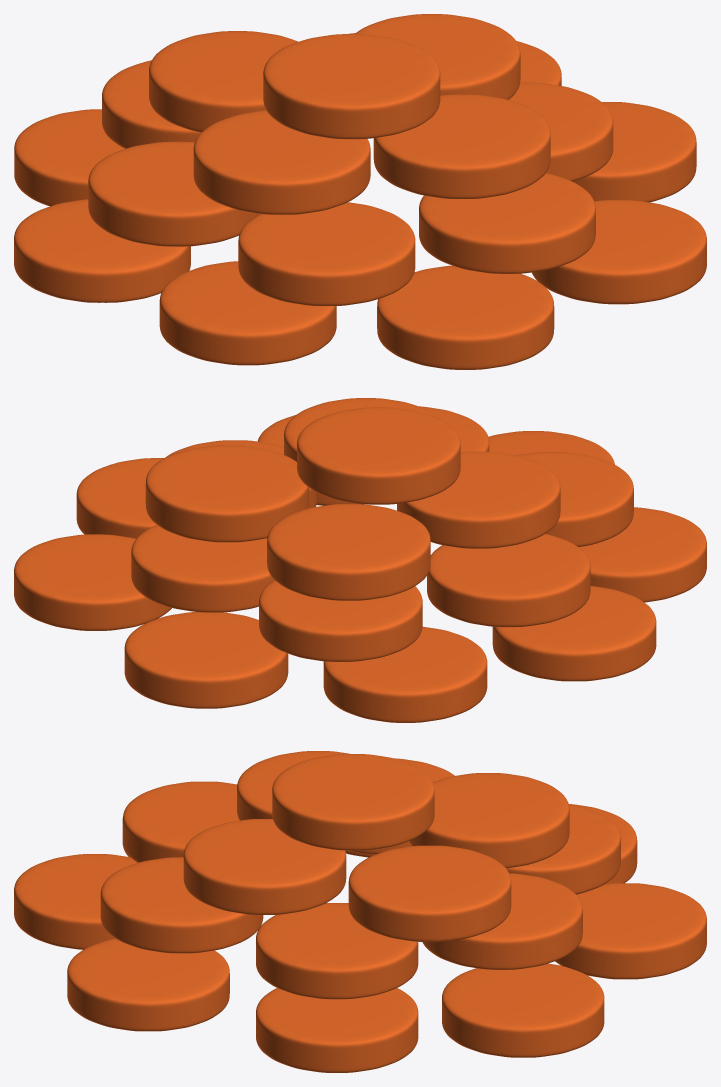
The model's file is Tutorial_CarrotCut.fbx.
3 views of the same model, one above another, from view 1: azimuth 30°, elevation 25°; view 2: azimuth 150°, elevation 25°; view 3: azimuth 270°, elevation 25° (orthographic). The views are drawn at different scales.
Parts seen in each view (by area): view 1: Tutorial_CarrotCut; view 2: Tutorial_CarrotCut; view 3: Tutorial_CarrotCut.
Boxes of the visible parts, left/top/right/bottom form: Tutorial_CarrotCut: left=14, top=14, right=706, bottom=369; Tutorial_CarrotCut: left=14, top=398, right=706, bottom=722; Tutorial_CarrotCut: left=14, top=751, right=706, bottom=1072.
Bounding box in the file's own units: 30.91 × 7.35 × 31.99.
